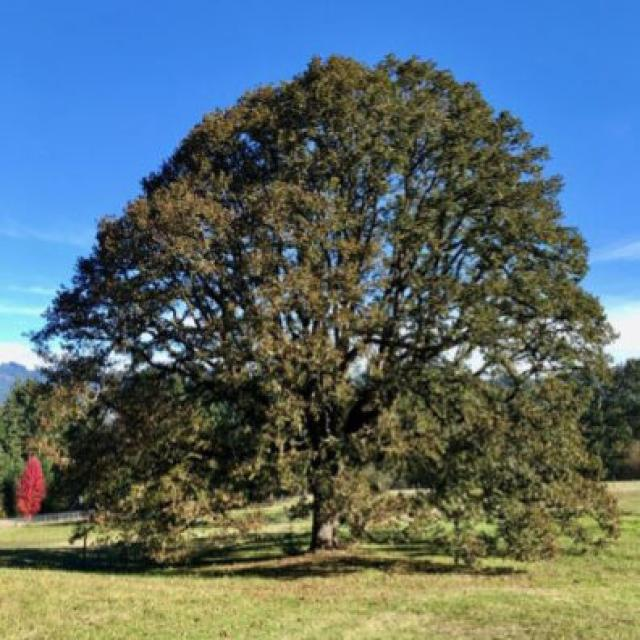Quercus garryana: (34, 50, 625, 566)
